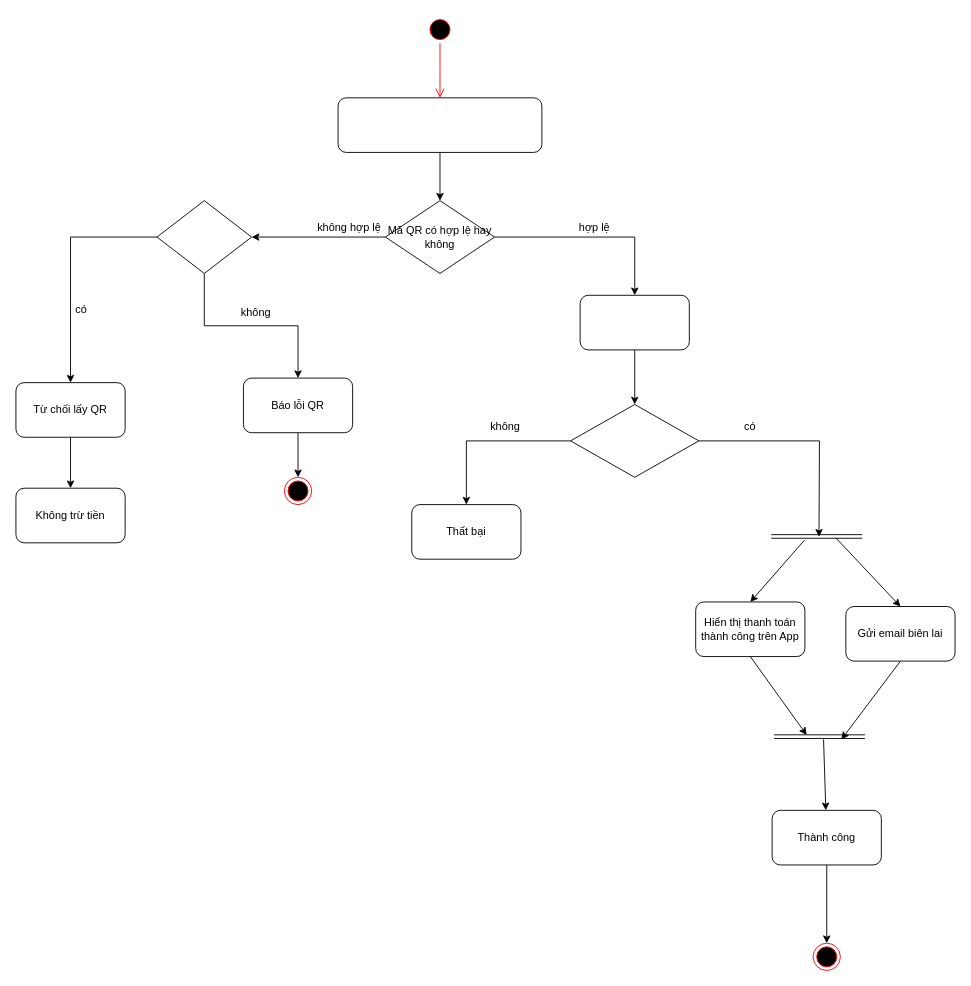
Some shapes in this 971 by 986 pixel diagram are drawn without their labels. The box of each missing label's shape, as (x1, y1, x2, y2) in pixels:
Hệ thống gọi API trừ tiền: (579, 294, 689, 350)
Khách hàng quét mã QR VNPay: (337, 97, 542, 152)
Quá hạn 15 phút: (156, 200, 252, 273)
TRừ tiền thành công: (570, 404, 699, 477)
